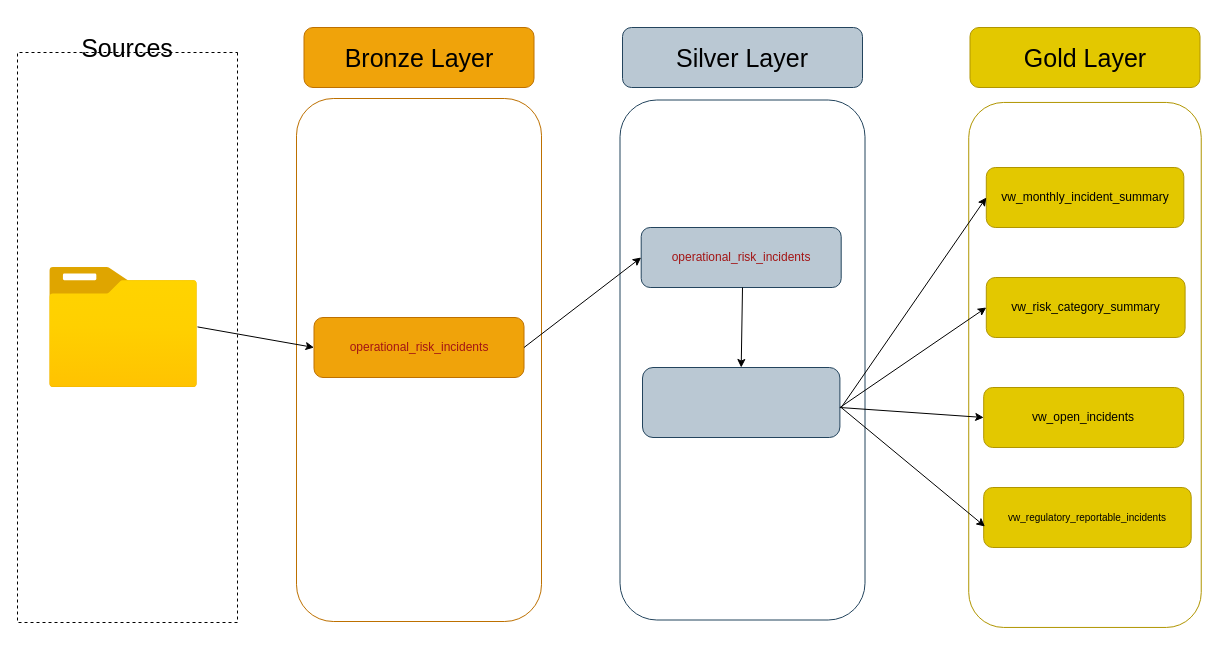
This 1219x645 diagram has some shape labels left out. Each missing label, with the box of its shape:
operational_risk_incidents_raw.csv: (49, 267, 197, 387)
vw_valid_operational_risk_incidents: (642, 366, 840, 438)
